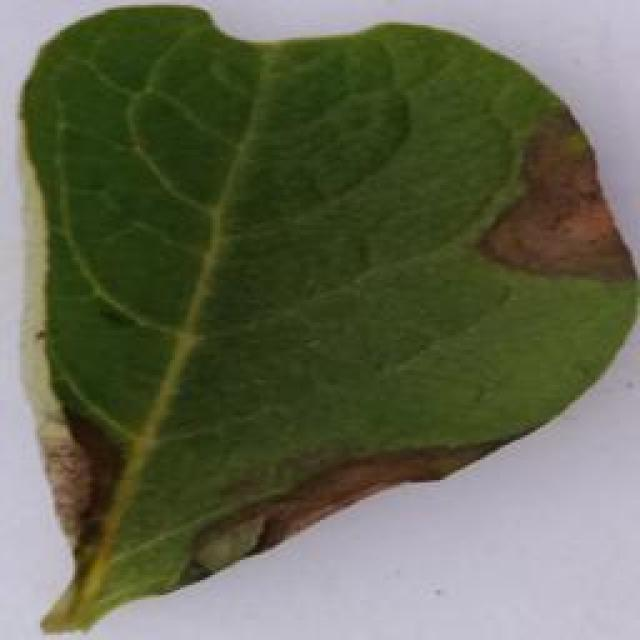Potato_Late_Blight: (17, 6, 629, 633)
